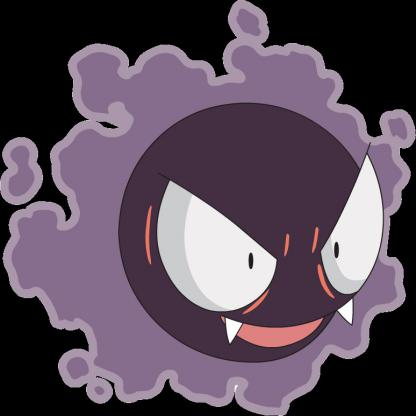Gastly: (1, 9, 416, 416)
